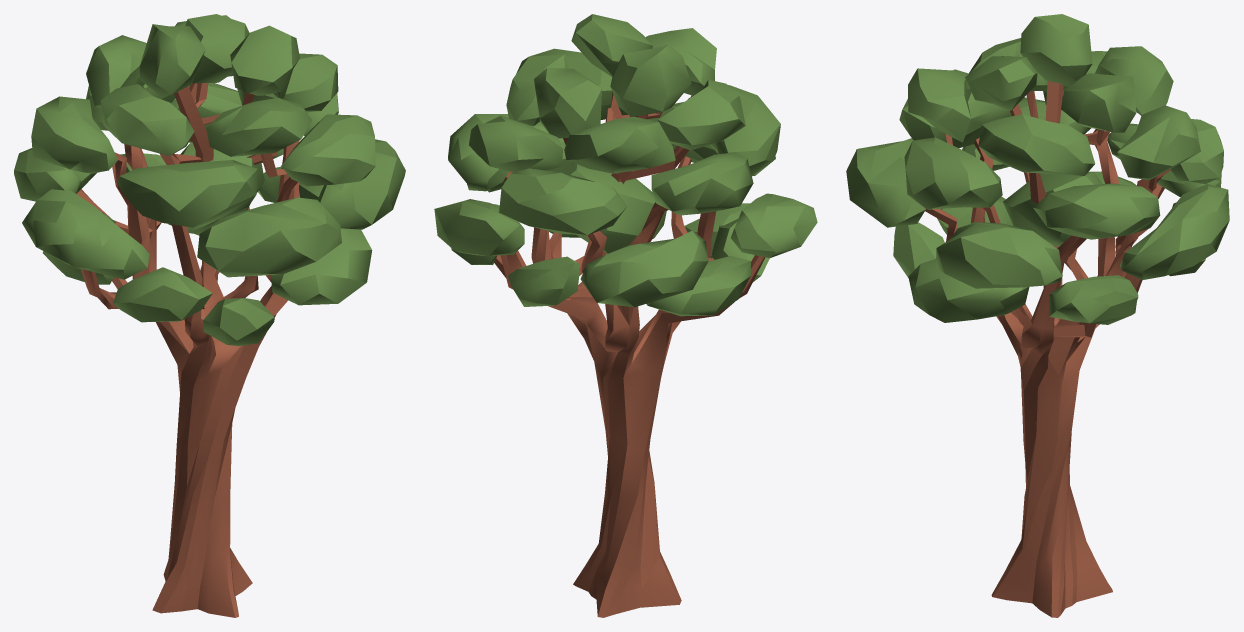
Rendered from Tree_1_High.fbx.
3 renders of one model, left to right at view 1: azimuth 30°, elevation 25°; view 2: azimuth 150°, elevation 25°; view 3: azimuth 270°, elevation 25°, orthographic. The views are drawn at different scales.
Parts seen in each view (by area): view 1: Tree_1_High; view 2: Tree_1_High; view 3: Tree_1_High.
Boxes of the visible parts, x1,y1,x2,y2 form: Tree_1_High: (14,14,405,617); Tree_1_High: (434,14,817,617); Tree_1_High: (846,14,1229,617).
Bounding box in the file's own units: 161 × 253 × 157.
